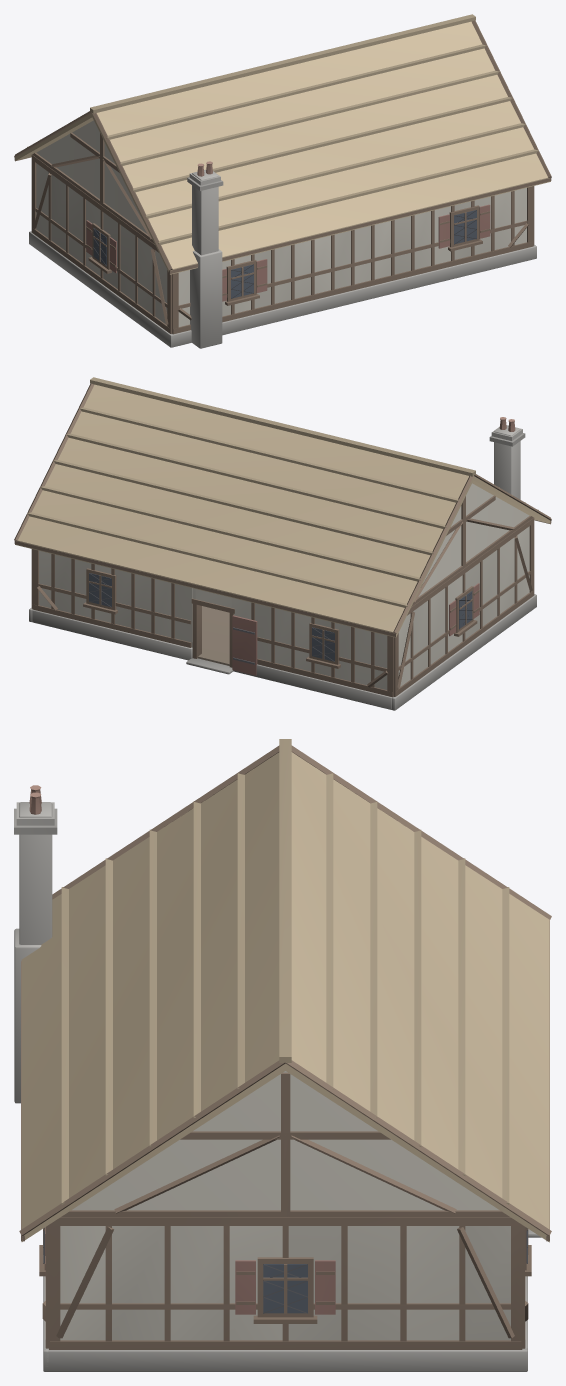
The model's file is open_farmhouse.gltf.
3 renders of one model, top to bottom at view 1: azimuth 30°, elevation 25°; view 2: azimuth 150°, elevation 25°; view 3: azimuth 270°, elevation 25°, orthographic. The views are drawn at different scales.
Parts seen in each view (by area): view 1: Body; view 2: Body; view 3: Body.
Part boxes in pixels (left/top/right/bottom): Body: left=14, top=14, right=551, bottom=348; Body: left=14, top=377, right=551, bottom=710; Body: left=14, top=739, right=551, bottom=1371.
Bounding box in the file's own units: 15.97 × 7.54 × 11.41.
